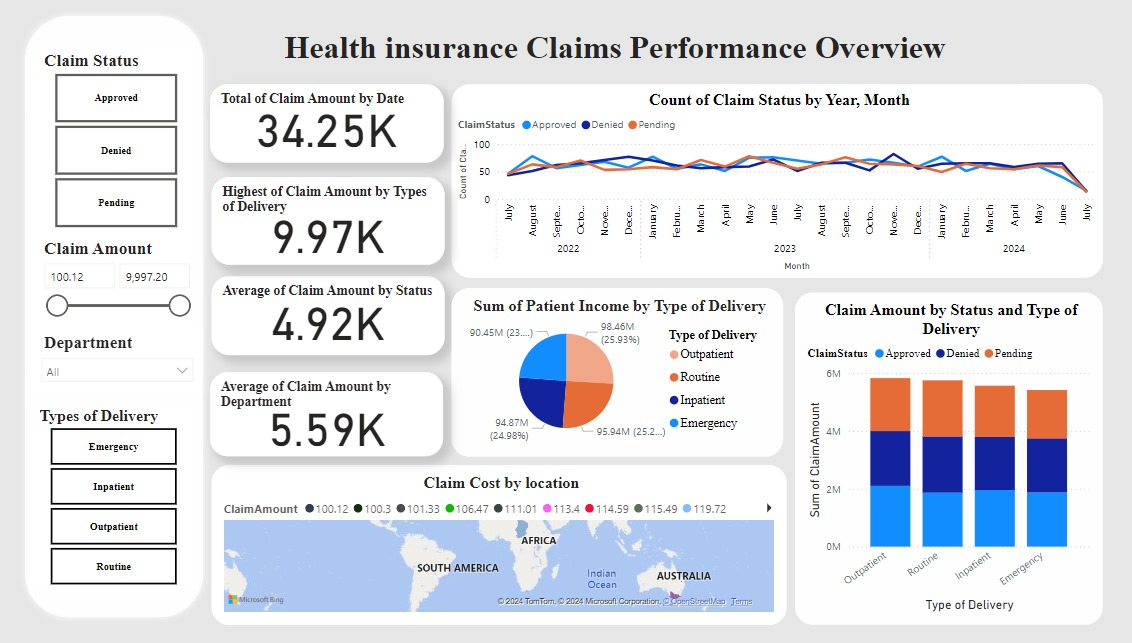

This screenshot's page, from the dashboard's own definition file:
{"tool":"powerbi","page":{"name":"Page 1","canvas":[1280,720],"ordinal":0},"visuals":[{"type":"lineChart","title":"Count of Claim Status by Year, Month ","fields":{"Series":["inaurNCE.ClaimStatus"],"Y":["CountNonNull(inaurNCE.ClaimStatus)"],"Category":["inaurNCE.ClaimDate.Variation.Date Hierarchy.Year","inaurNCE.ClaimDate.Variation.Date Hierarchy.Month"]},"box":[506.7,88.3,761.7,226.7],"z":0},{"type":"columnChart","title":"Claim Amount by Status and Type of Delivery","fields":{"Y":["Sum(inaurNCE.ClaimAmount)"],"Category":["inaurNCE.ClaimType"],"Series":["inaurNCE.ClaimStatus"]},"box":[908.6,331.4,360,388.6],"z":1000},{"type":"textbox","box":[224,0,948,88],"z":2000},{"type":"kpi","title":"Total of Claim Amount by Date","fields":{"Indicator":["Sum(inaurNCE.ClaimAmount)"],"TrendLine":["inaurNCE.ClaimDate"]},"box":[225,88.3,273.3,91.7],"z":3000},{"type":"kpi","title":"Average of Claim Amount by Status","fields":{"TrendLine":["inaurNCE.ClaimStatus"],"Indicator":["Avg(inaurNCE.ClaimAmount)"]},"box":[225.7,312.9,272.9,92.9],"z":4000},{"type":"kpi","title":"Highest of Claim Amount by  Types of Delivery","fields":{"Indicator":["Max(inaurNCE.ClaimAmount)"],"TrendLine":["inaurNCE.ClaimType"]},"box":[225.7,197.1,272.9,102.9],"z":5000},{"type":"pieChart","title":"Sum of Patient Income by Type of Delivery","fields":{"Y":["Sum(inaurNCE.PatientIncome)"],"Category":["inaurNCE.ClaimType"]},"box":[506.4,326.4,388.2,197.3],"z":6000},{"type":"filledMap","title":"Claim Cost by location ","fields":{"Category":["inaurNCE.ProviderLocation"],"Series":["inaurNCE.ClaimAmount"]},"box":[225.7,532.9,672.9,187.1],"z":7000},{"type":"shape","box":[0,0,225,720],"z":8000},{"type":"slicer","fields":{"Values":["inaurNCE.ClaimType"]},"box":[12.9,460,197.1,220],"z":9000},{"type":"slicer","fields":{"Values":["inaurNCE.ClaimStatus"]},"box":[17.1,44.3,192.9,218.6],"z":10000},{"type":"slicer","fields":{"Values":["inaurNCE.ClaimAmount"]},"box":[17.1,262.9,192.9,151.4],"z":11000},{"type":"kpi","title":"Average of Claim Amount by Department","fields":{"Indicator":["Avg(inaurNCE.ClaimAmount)"],"TrendLine":["inaurNCE.DiagnosisCode"]},"box":[224.3,424.3,272.9,98.6],"z":12000},{"type":"slicer","fields":{"Values":["inaurNCE.ProviderSpecialty"]},"box":[17.1,374.3,197.1,80],"z":13000}]}

Visuals, with their boxes in screenshot pixels (x1, y1, x2, y2), scaled from the page's 1280x720 canvas onto the 1132x643 screenshot:
"Count of Claim Status by Year, Month " lineChart: pyautogui.locateOnScreen(448, 79, 1122, 281)
"Claim Amount by Status and Type of Delivery" columnChart: pyautogui.locateOnScreen(804, 296, 1122, 642)
textbox: pyautogui.locateOnScreen(198, 0, 1036, 79)
"Total of Claim Amount by Date" kpi: pyautogui.locateOnScreen(199, 79, 441, 161)
"Average of Claim Amount by Status" kpi: pyautogui.locateOnScreen(200, 279, 441, 362)
"Highest of Claim Amount by  Types of Delivery" kpi: pyautogui.locateOnScreen(200, 176, 441, 268)
"Sum of Patient Income by Type of Delivery" pieChart: pyautogui.locateOnScreen(448, 291, 791, 468)
"Claim Cost by location " filledMap: pyautogui.locateOnScreen(200, 476, 795, 642)
shape: pyautogui.locateOnScreen(0, 0, 199, 642)
slicer - inaurNCE.ClaimType: pyautogui.locateOnScreen(11, 411, 186, 607)
slicer - inaurNCE.ClaimStatus: pyautogui.locateOnScreen(15, 40, 186, 235)
slicer - inaurNCE.ClaimAmount: pyautogui.locateOnScreen(15, 235, 186, 370)
"Average of Claim Amount by Department" kpi: pyautogui.locateOnScreen(198, 379, 440, 467)
slicer - inaurNCE.ProviderSpecialty: pyautogui.locateOnScreen(15, 334, 189, 406)
